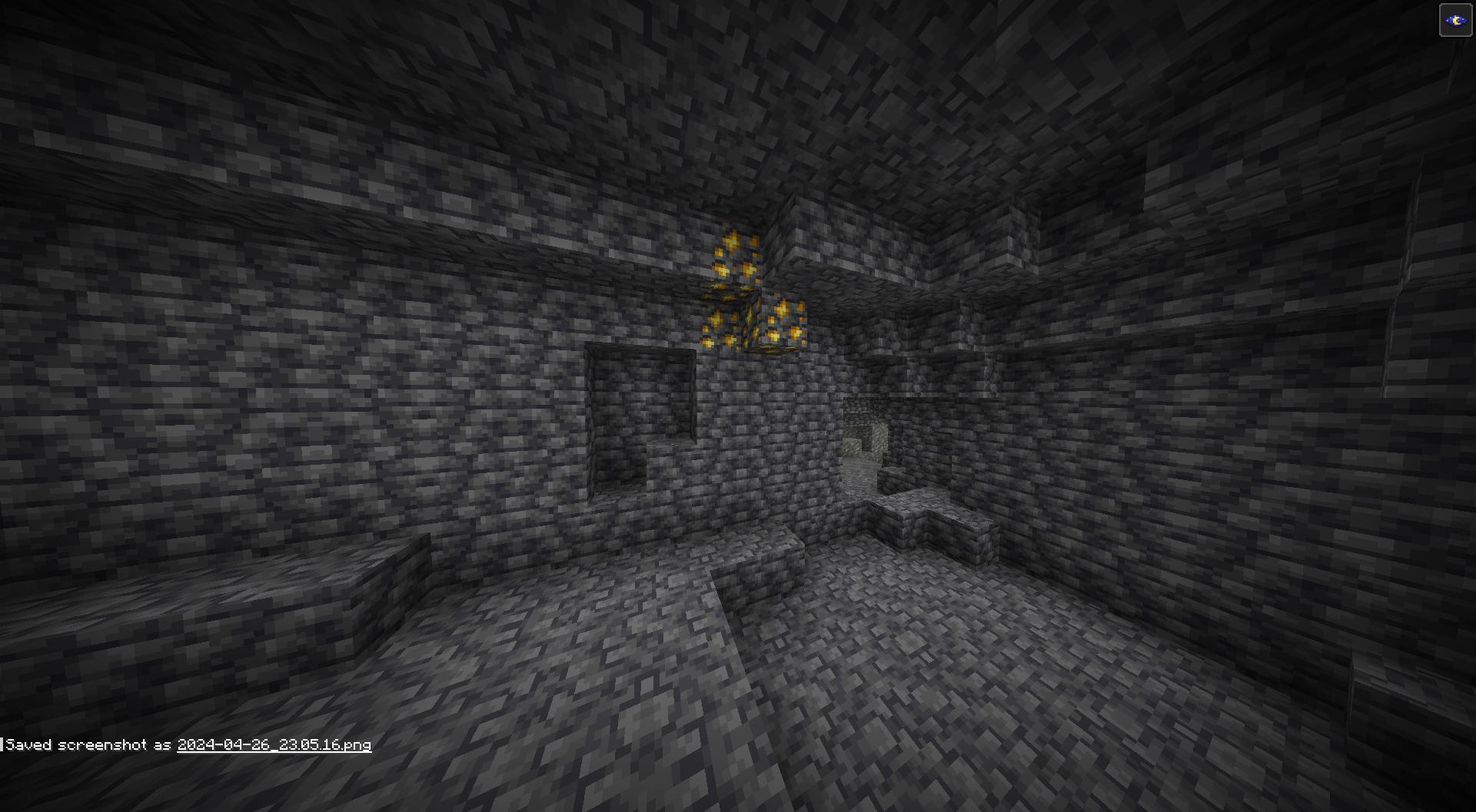gold ore: (711, 218, 761, 280), (697, 303, 746, 351), (769, 286, 808, 342), (697, 278, 759, 303), (746, 293, 767, 346)
